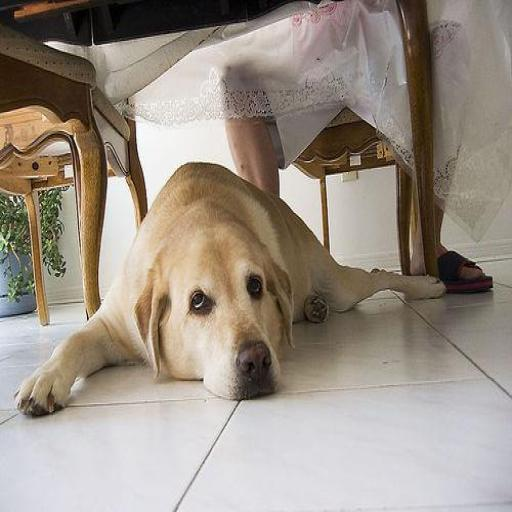dog_face: (128, 224, 296, 404)
